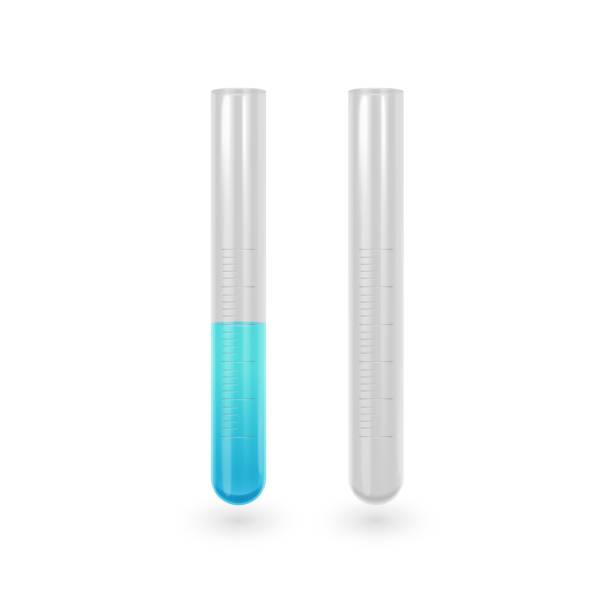Test tube: (194, 67, 267, 511), (345, 71, 413, 515)
